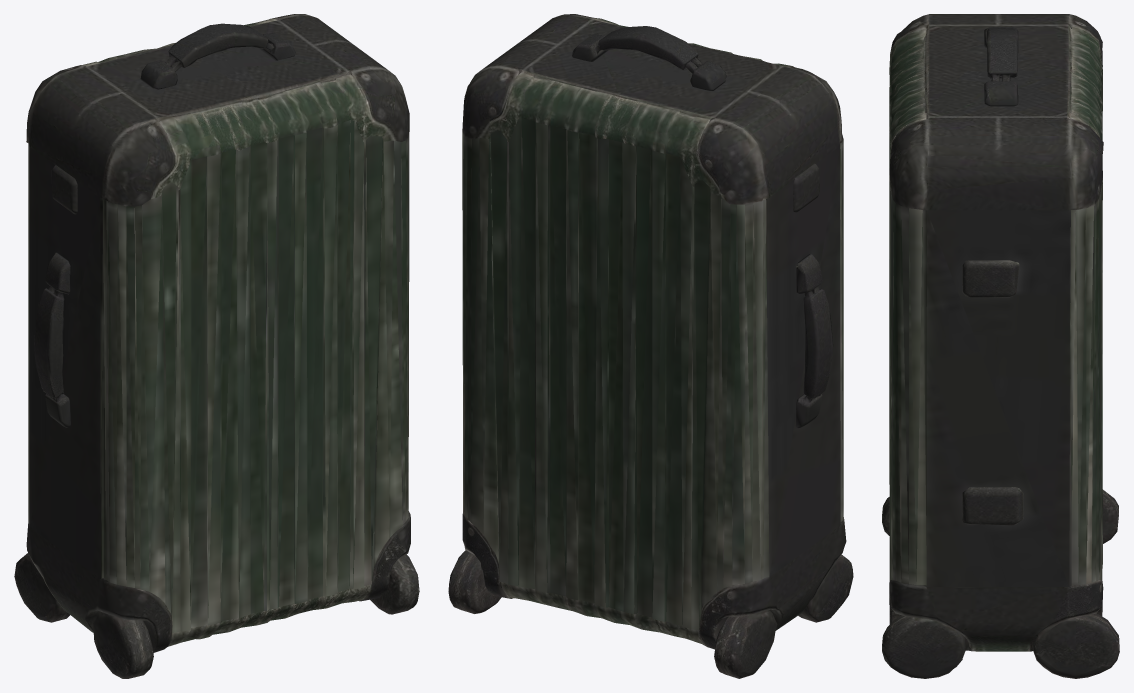
Rendered from p7-rolling-suitcase-t25.glb.
3 views of the same model, side by side, from view 1: azimuth 30°, elevation 25°; view 2: azimuth 150°, elevation 25°; view 3: azimuth 270°, elevation 25° (orthographic).
Visible parts, largest first — view 1: p7-rolling-suitcase-t25; view 2: p7-rolling-suitcase-t25; view 3: p7-rolling-suitcase-t25.
Boxes of the visible parts, x1,y1,x2,y2 form: p7-rolling-suitcase-t25: (14, 14, 419, 678); p7-rolling-suitcase-t25: (448, 14, 853, 678); p7-rolling-suitcase-t25: (882, 14, 1119, 678).
Size of the model in its own units: 0.45 by 0.75 by 0.28.
Materials: 1 (1 with a texture image).
